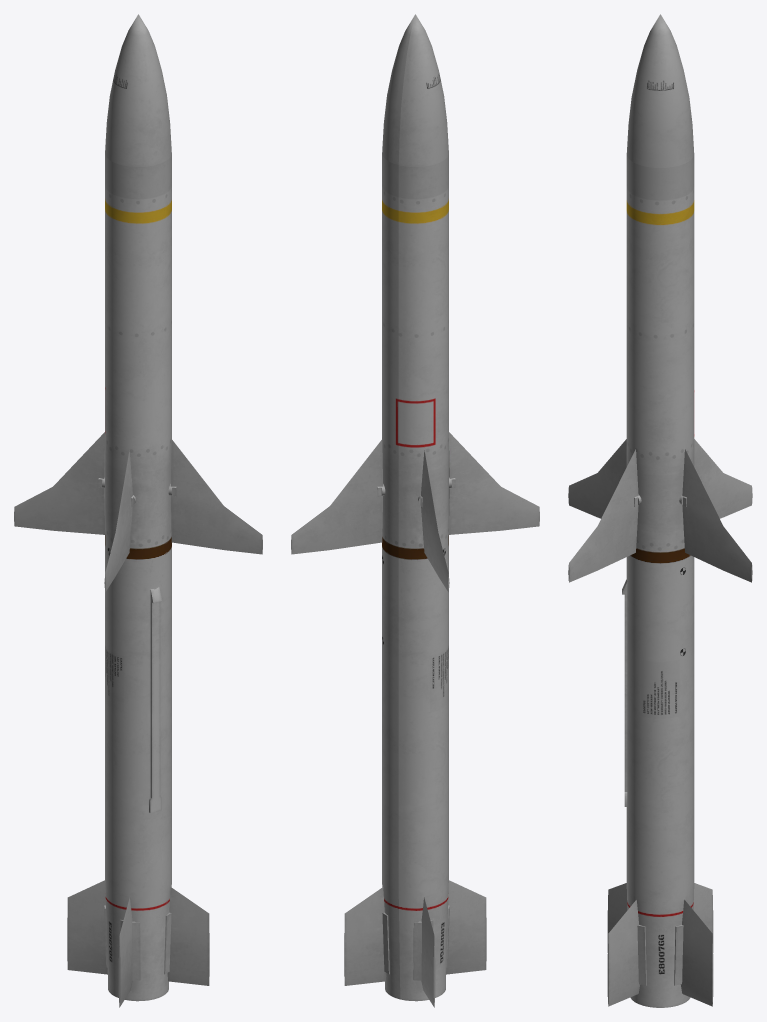
The model's file is AIM120.obj.
The picture shows the model from 3 angles, left to right: view 1: azimuth 30°, elevation 25°; view 2: azimuth 150°, elevation 25°; view 3: azimuth 270°, elevation 25°; orthographic projection.
Visible parts, largest first — view 1: AIM120; view 2: AIM120; view 3: AIM120.
Part boxes in pixels (x1,y1,x2,y2): AIM120: [14, 14, 262, 1007]; AIM120: [291, 14, 539, 1007]; AIM120: [568, 14, 752, 1007].
Bounding box in the file's own units: 0.6204 × 3.64 × 0.6204.
